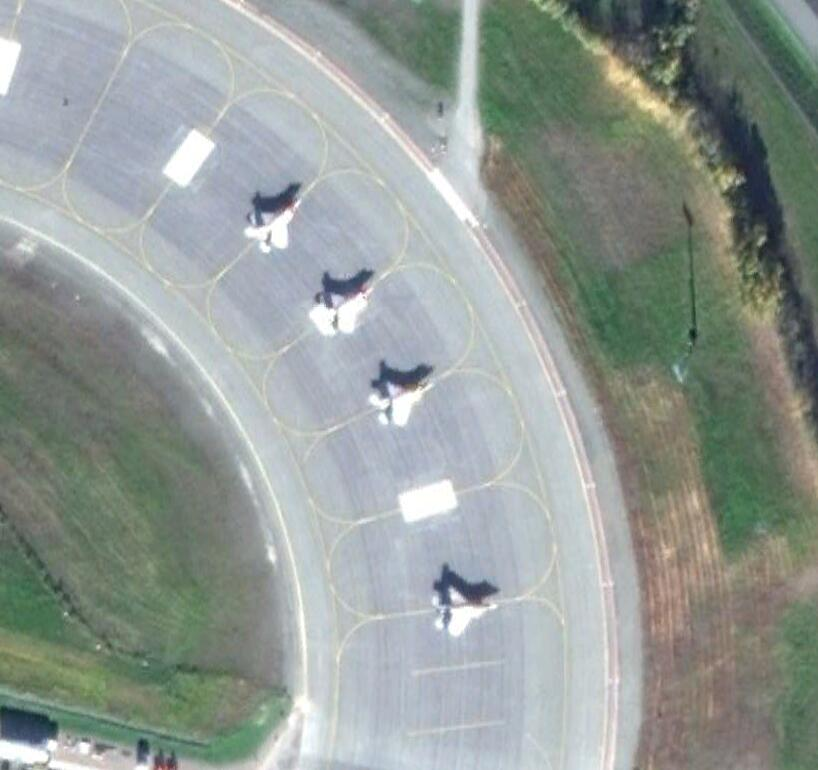A15: (433, 580, 504, 637), (309, 285, 379, 337), (243, 197, 303, 254), (369, 377, 436, 427)
